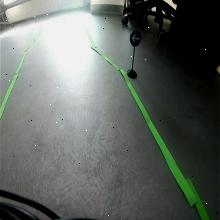left: (129, 29, 142, 46)
